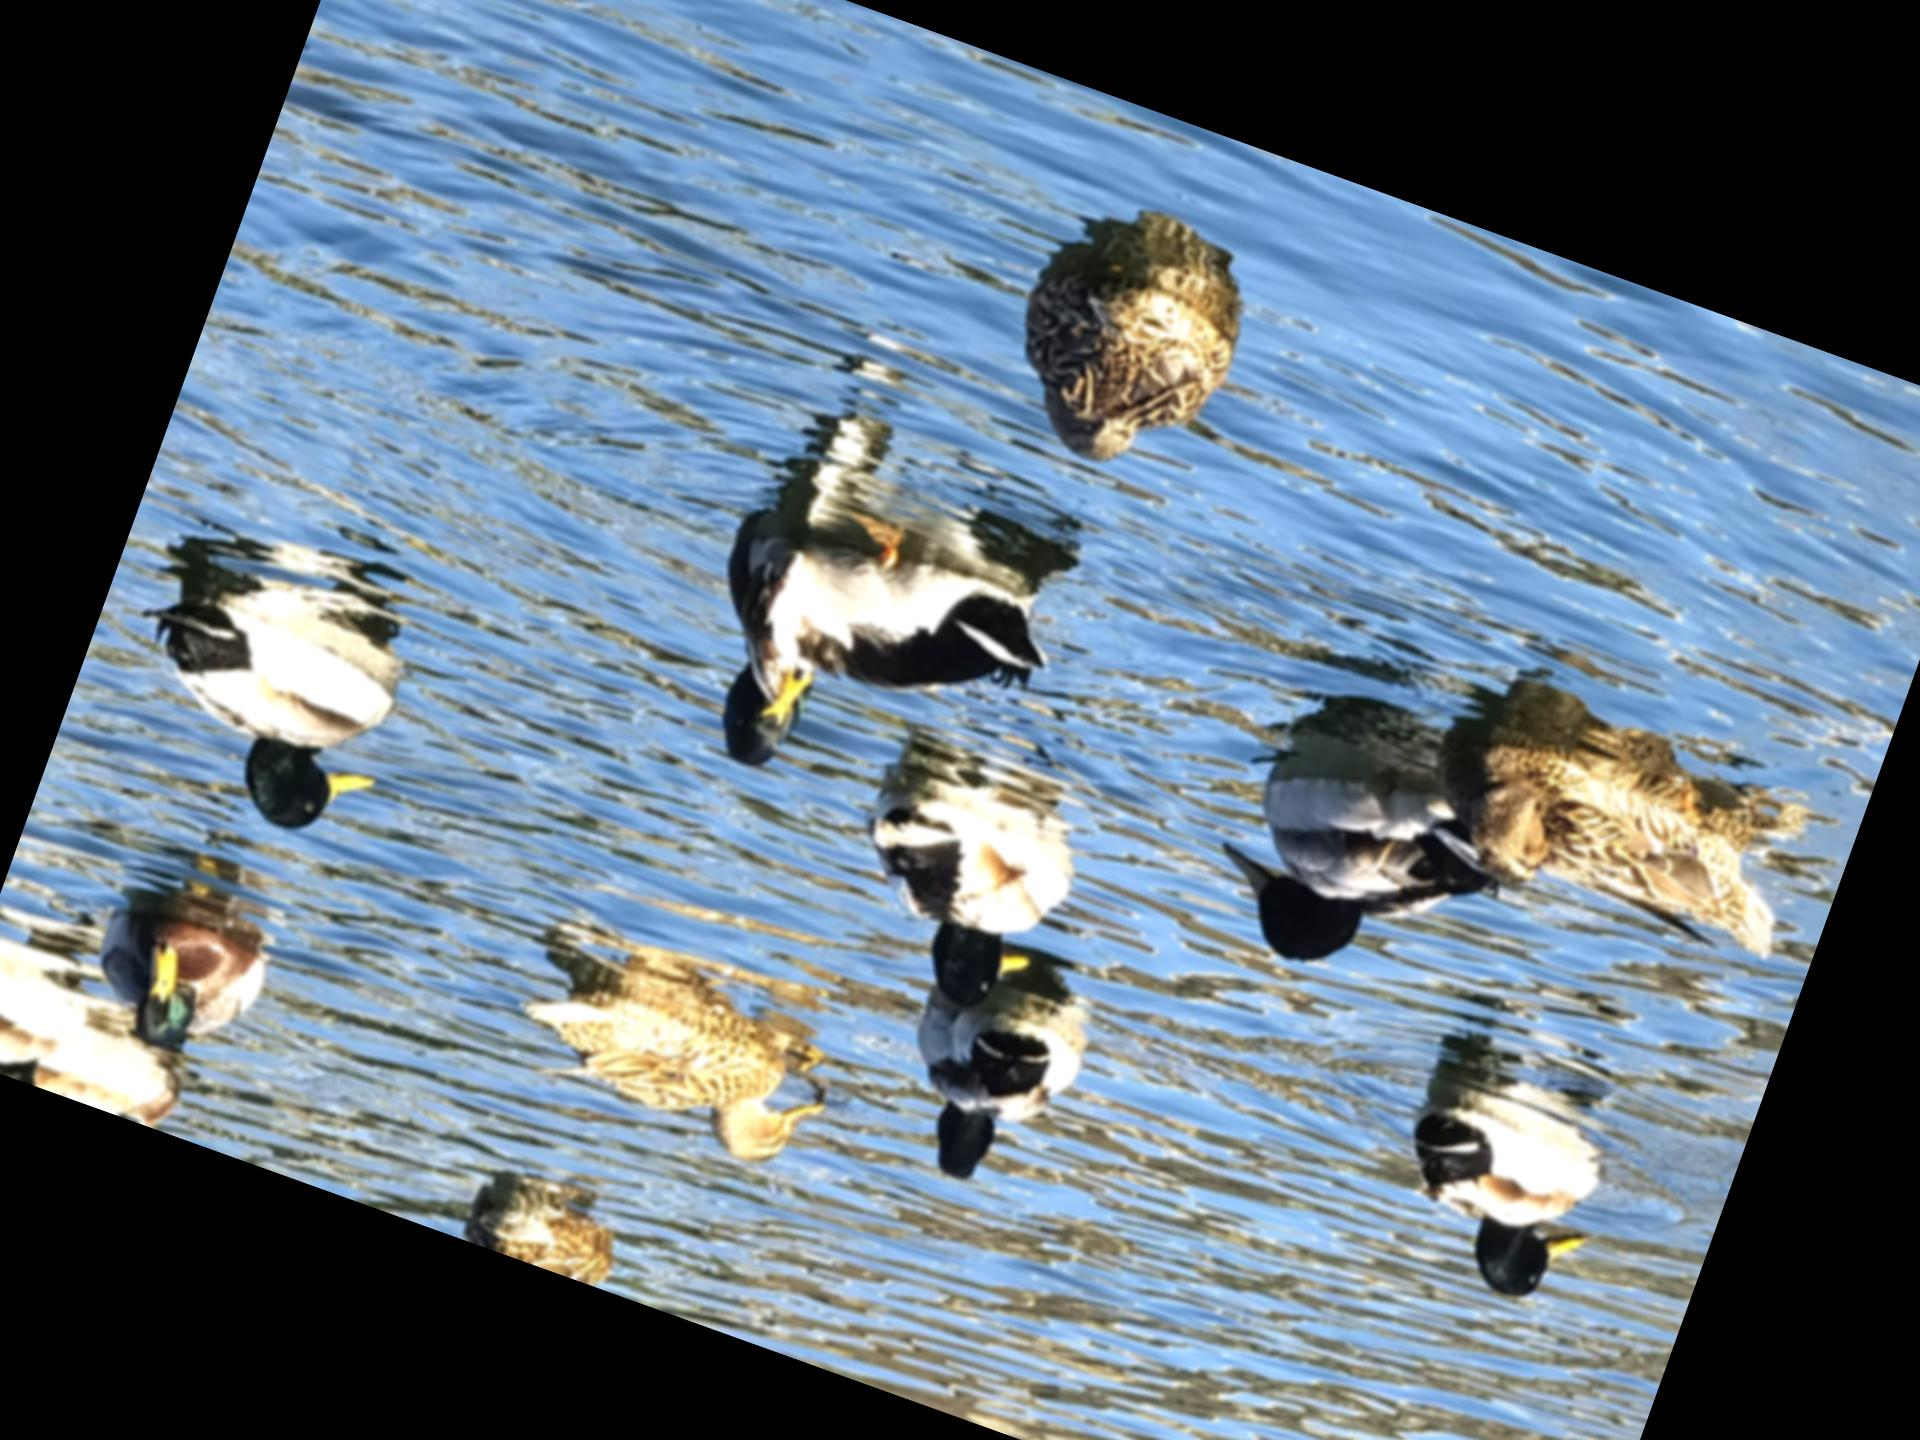duck: (644, 470, 1102, 883), (1429, 687, 1834, 982), (945, 189, 1284, 516), (92, 554, 437, 865), (1179, 737, 1541, 1032), (488, 944, 856, 1190), (816, 734, 1113, 1035), (1347, 1045, 1633, 1330), (862, 920, 1119, 1221), (57, 873, 296, 1103), (447, 1162, 646, 1293)
